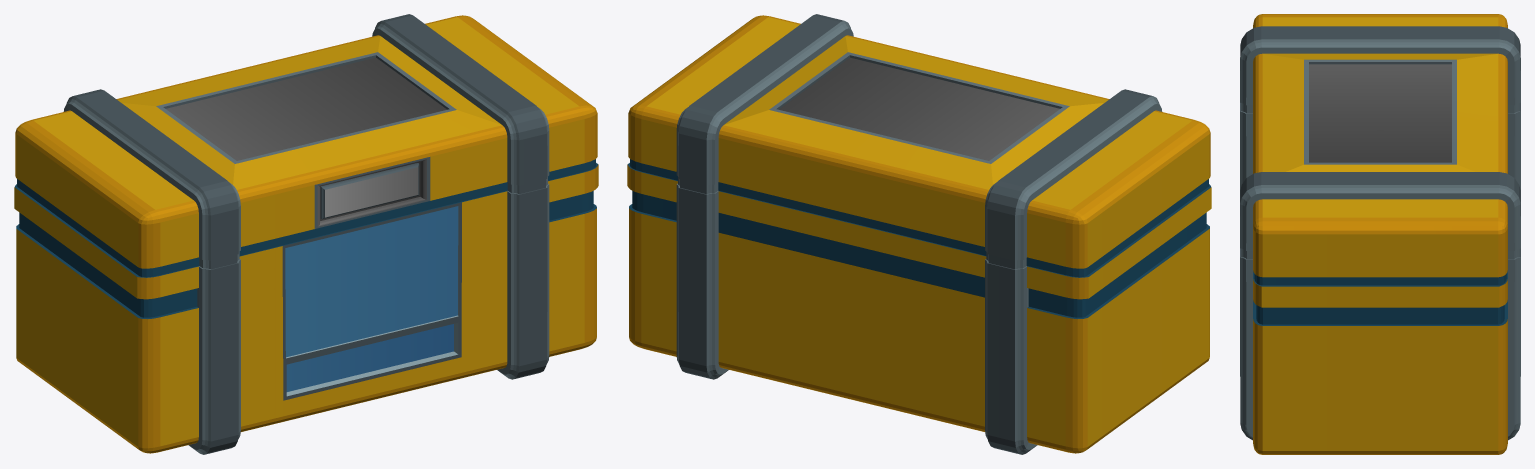
File: Future Large Crate Yellow.fbx
3 renders of one model, left to right at view 1: azimuth 30°, elevation 25°; view 2: azimuth 150°, elevation 25°; view 3: azimuth 270°, elevation 25°, orthographic. The views are drawn at different scales.
Visible parts, largest first — view 1: Future Large Crate Yellow; view 2: Future Large Crate Yellow; view 3: Future Large Crate Yellow.
Boxes of the visible parts, x1=… form: Future Large Crate Yellow: x1=14, y1=14, x2=598, y2=454; Future Large Crate Yellow: x1=627, y1=14, x2=1211, y2=454; Future Large Crate Yellow: x1=1240, y1=14, x2=1520, y2=454.
Size of the model in its own units: 333 by 329 by 604.
1 material, 1 textured.
